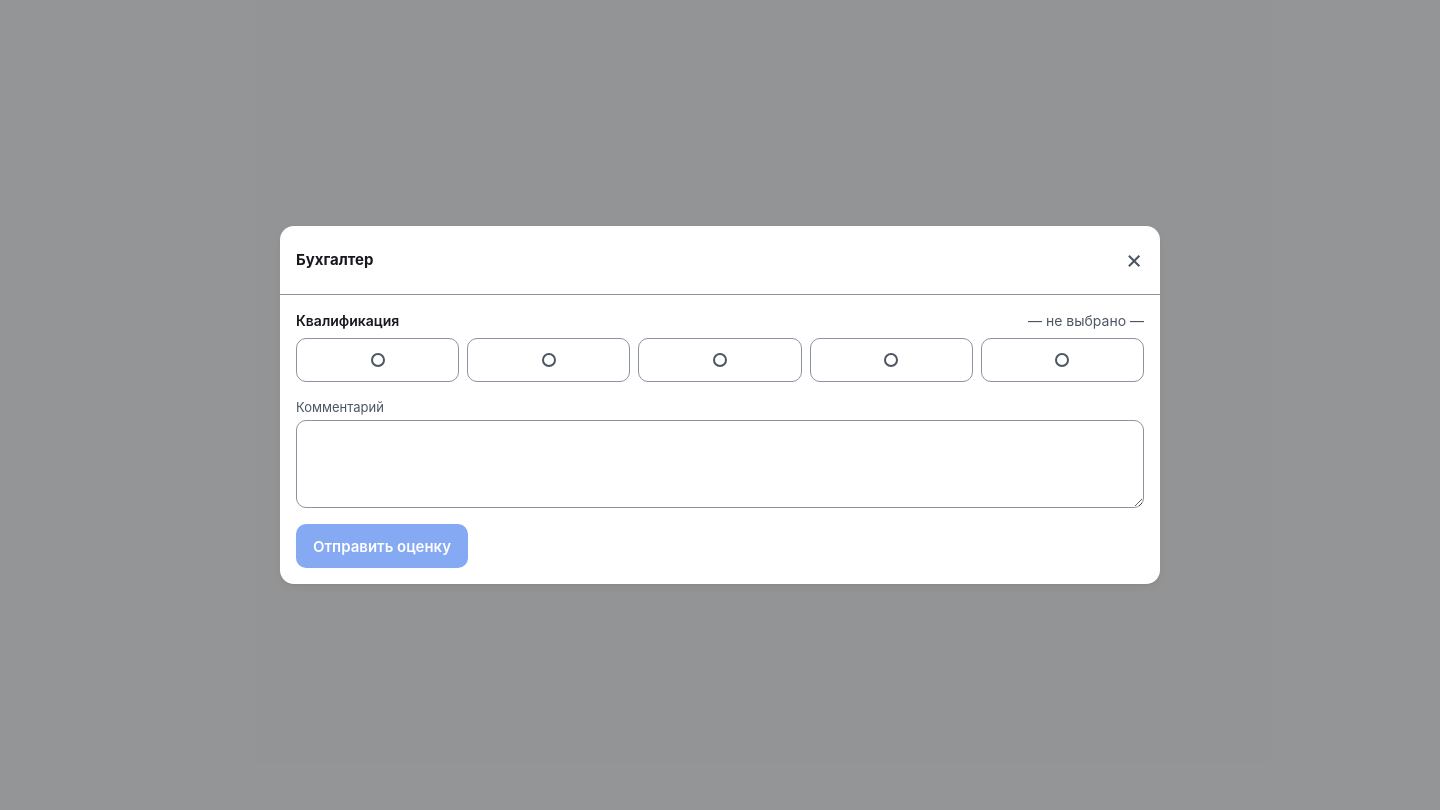
без комиссии оценённую должность можно переоценить — форма не заблокирована, но и не подставлена
The image size is (1440, 810).
Expected: the button "Отправить оценку" is disabled, [296,524,468,568]
Click the button named "Вариант 1": (378, 360) [296,338,459,382]
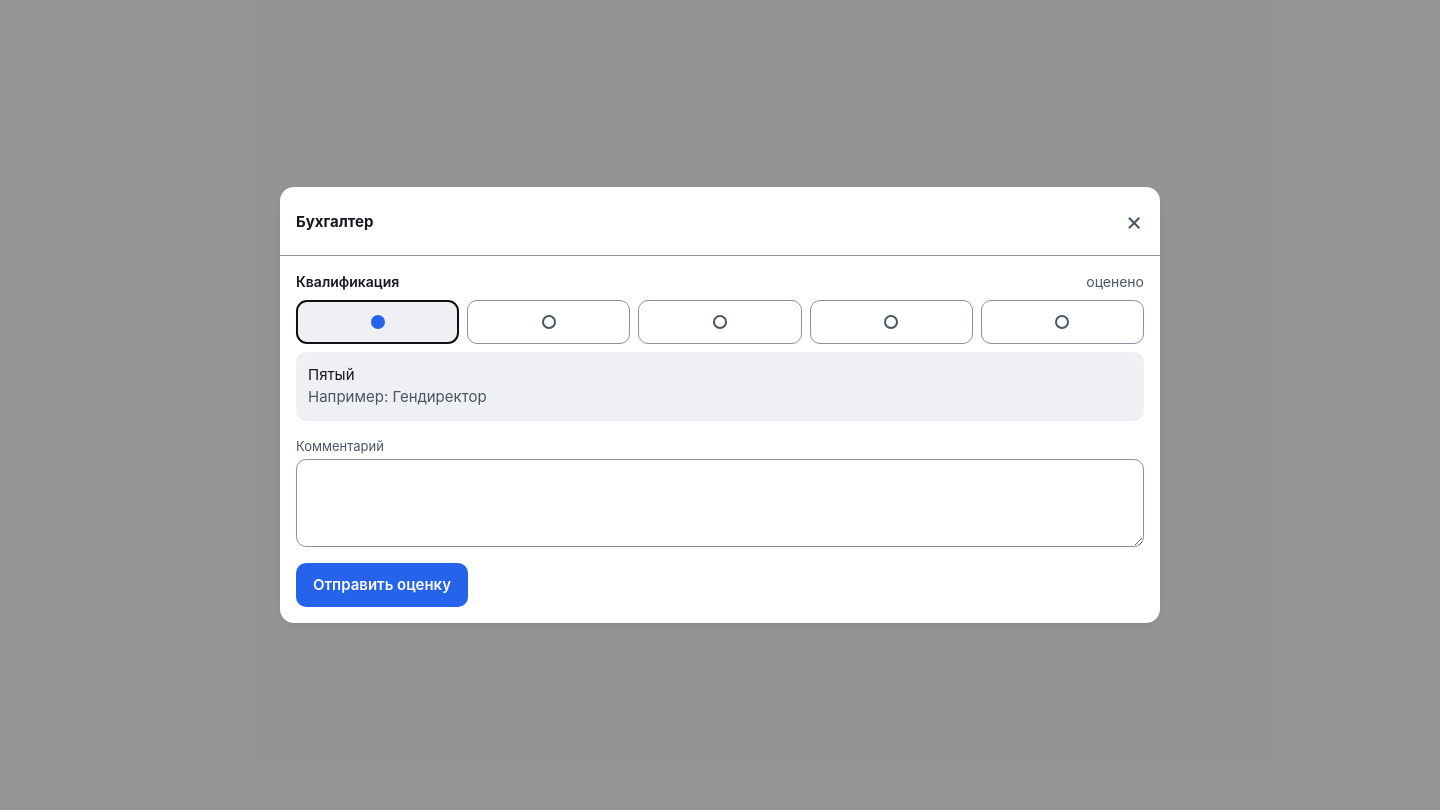
Now the button "Отправить оценку" is enabled, box [296,563,468,607]
